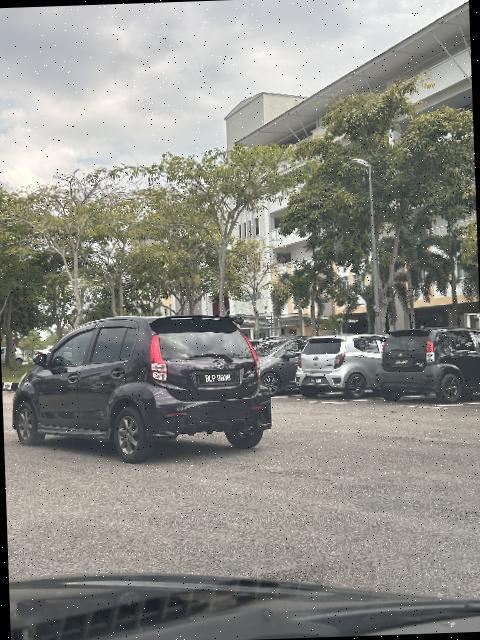License_Plate: (196, 368, 242, 389), (391, 357, 414, 368), (305, 377, 328, 387)
car: (7, 309, 281, 467), (377, 325, 480, 405), (296, 334, 404, 395)
